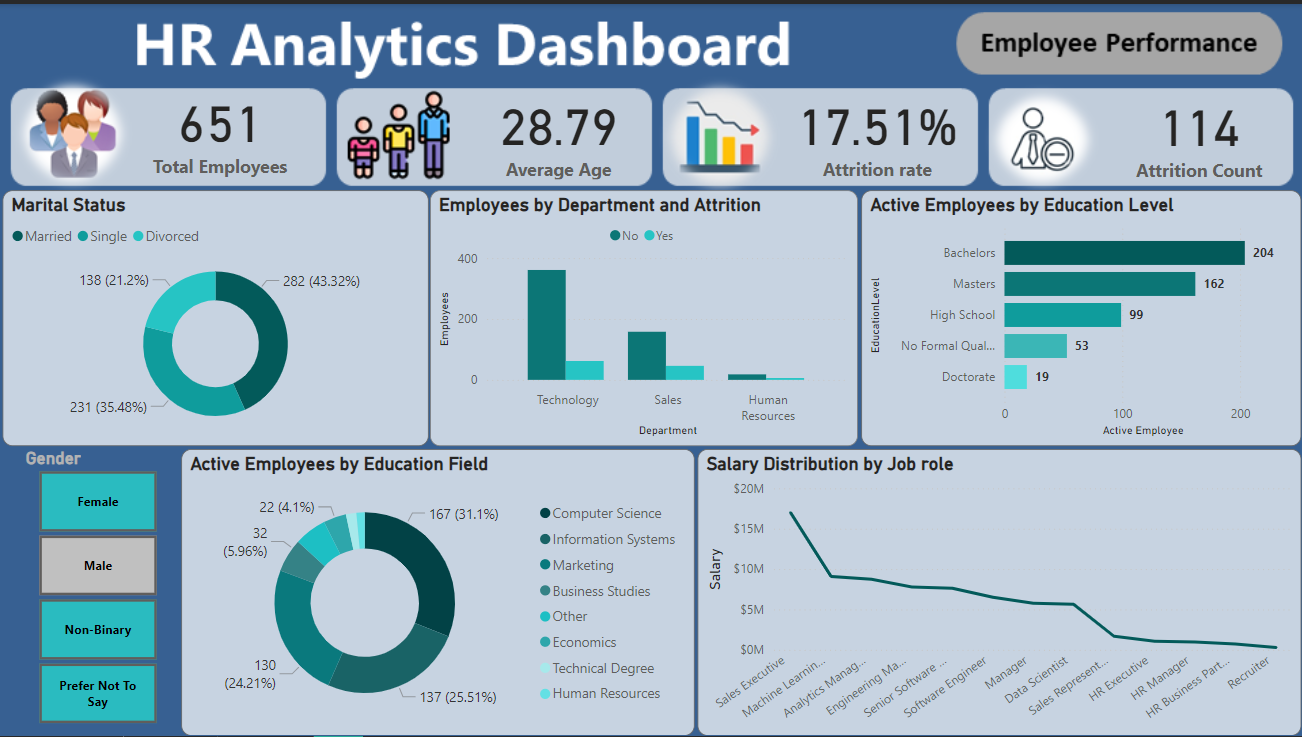

The page's visual inventory and layout, read from the dashboard file:
{"tool":"powerbi","page":{"name":"Page 1","canvas":[1280,720],"ordinal":0},"visuals":[{"type":"donutChart","title":"Active Employees by Education Field","fields":{"Y":["EducationLevel.Active Employee"],"Category":["Employee.EducationField"]},"box":[178.4,436.4,503.6,281.3],"z":0},{"type":"card","fields":{"Values":["CountNonNull(Employee.EmployeeID)"]},"box":[82.2,69.9,267.5,108],"z":1000},{"type":"card","fields":{"Values":["EducationLevel.Attrition rate"]},"box":[757.1,72.4,208.6,108],"z":2000},{"type":"donutChart","title":"Marital Status","fields":{"Category":["Employee.MaritalStatus"],"Y":["CountNonNull(Employee.EmployeeID)"]},"box":[2.7,182.5,418.5,251.1],"z":3000},{"type":"lineChart","title":"Salary Distribution by Job role","fields":{"Y":["Sum(Employee.Salary)"],"Category":["Employee.JobRole"]},"box":[684.7,436.4,592.8,281.3],"z":4000},{"type":"clusteredBarChart","title":"Active Employees by Education Level","fields":{"Category":["EducationLevel.EducationLevel"],"Y":["EducationLevel.Active Employee"]},"box":[845.3,182.5,432.2,251.1],"z":5000},{"type":"card","fields":{"Values":["EducationLevel.Attrition Count"]},"box":[1101.8,73.6,150.9,108],"z":6000},{"type":"card","fields":{"Values":["Avg(Employee.Age)"]},"box":[441.7,76.1,213.5,100.6],"z":7000},{"type":"clusteredColumnChart","title":"Employees by Department and Attrition","fields":{"Series":["Employee.Attrition"],"Category":["Employee.Department"],"Y":["CountNonNull(Employee.EmployeeID)"]},"box":[422.6,182.5,419.9,251.1],"z":8000},{"type":"slicer","fields":{"Values":["Employee.Gender"]},"box":[12.3,430.7,165.6,282.2],"z":9000},{"type":"actionButton","box":[939.9,11,312.9,58.9],"z":10000}]}

Visuals, with their boxes in screenshot pixels (x1, y1, x2, y2), scaled from the page's 1280x720 canvas onto the 1302x737 screenshot:
"Active Employees by Education Field" donutChart: left=181, top=447, right=694, bottom=735
card - CountNonNull(Employee.EmployeeID): left=84, top=72, right=356, bottom=182
card - EducationLevel.Attrition rate: left=770, top=74, right=982, bottom=185
"Marital Status" donutChart: left=3, top=187, right=428, bottom=444
"Salary Distribution by Job role" lineChart: left=696, top=447, right=1299, bottom=735
"Active Employees by Education Level" clusteredBarChart: left=860, top=187, right=1299, bottom=444
card - EducationLevel.Attrition Count: left=1121, top=75, right=1274, bottom=186
card - Avg(Employee.Age): left=449, top=78, right=666, bottom=181
"Employees by Department and Attrition" clusteredColumnChart: left=430, top=187, right=857, bottom=444
slicer - Employee.Gender: left=13, top=441, right=181, bottom=730
actionButton: left=956, top=11, right=1274, bottom=72
